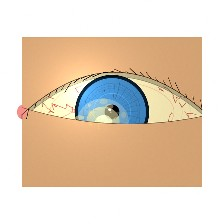corneal_ulcer: (76, 100, 130, 143)
